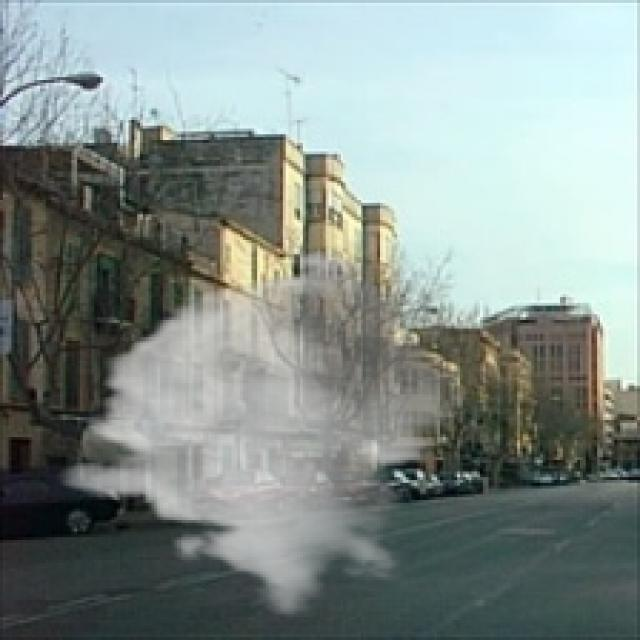smoke: (54, 246, 477, 617)
